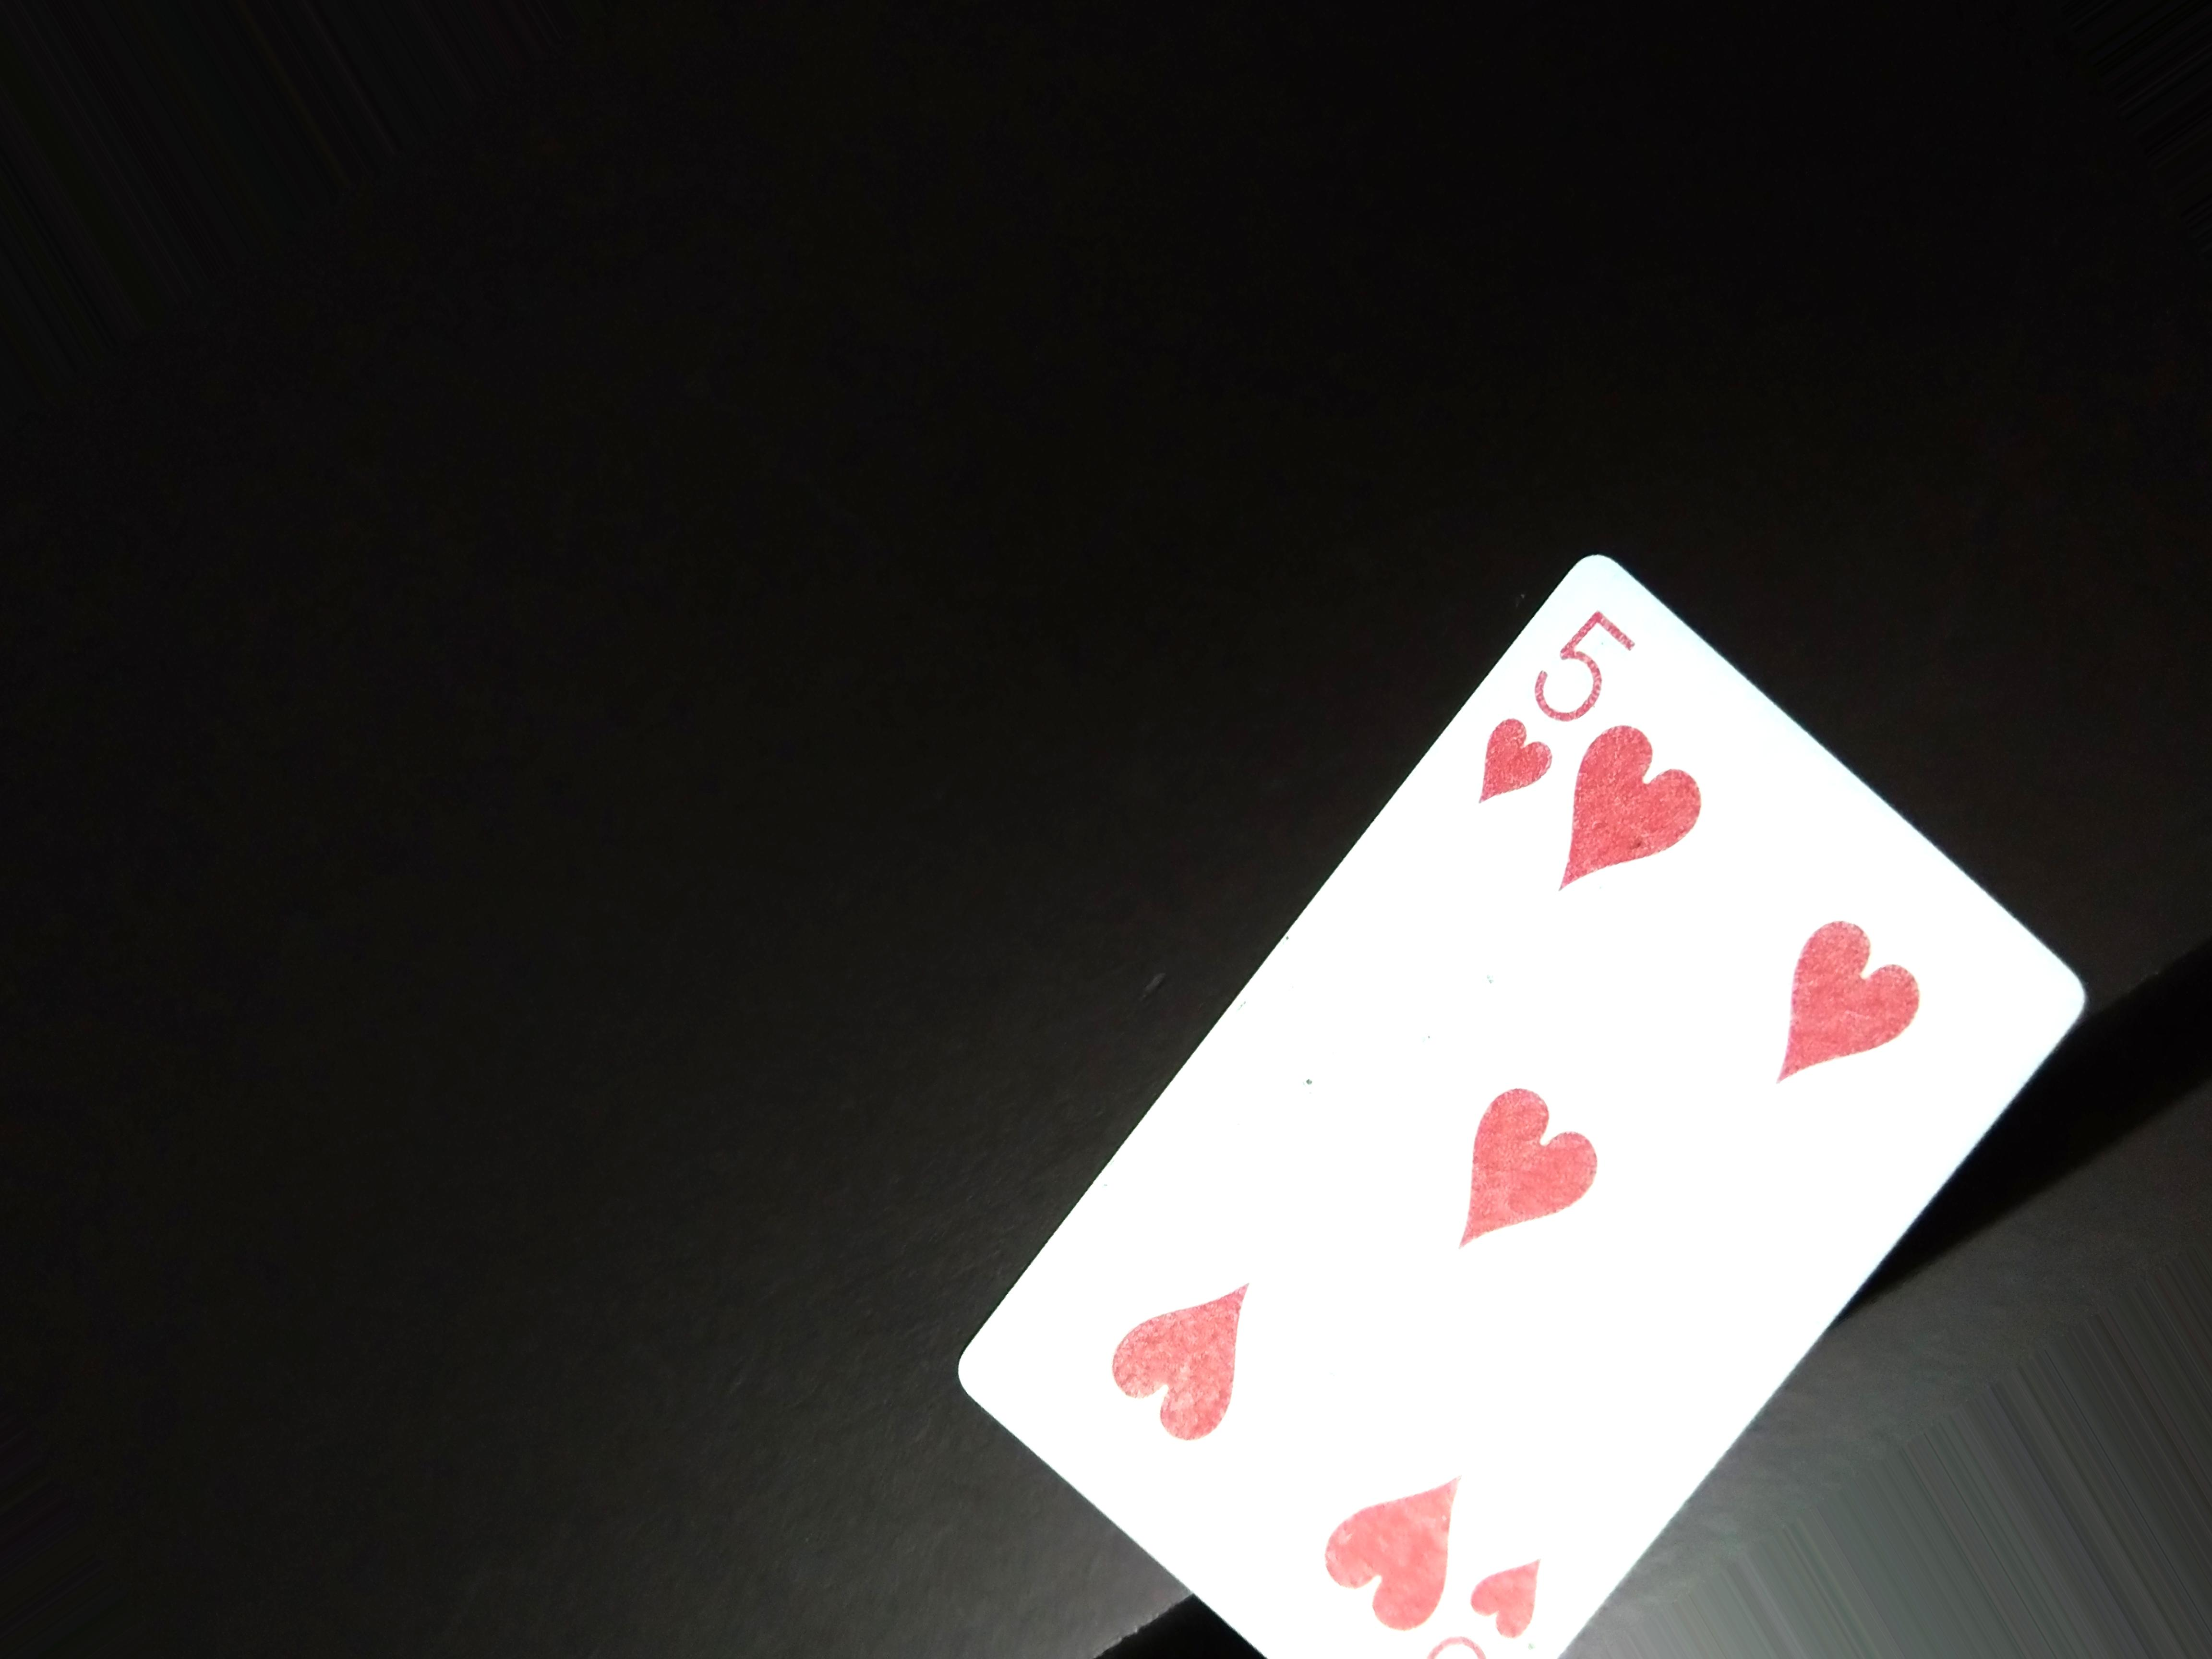5H: (1460, 608, 1629, 812)
